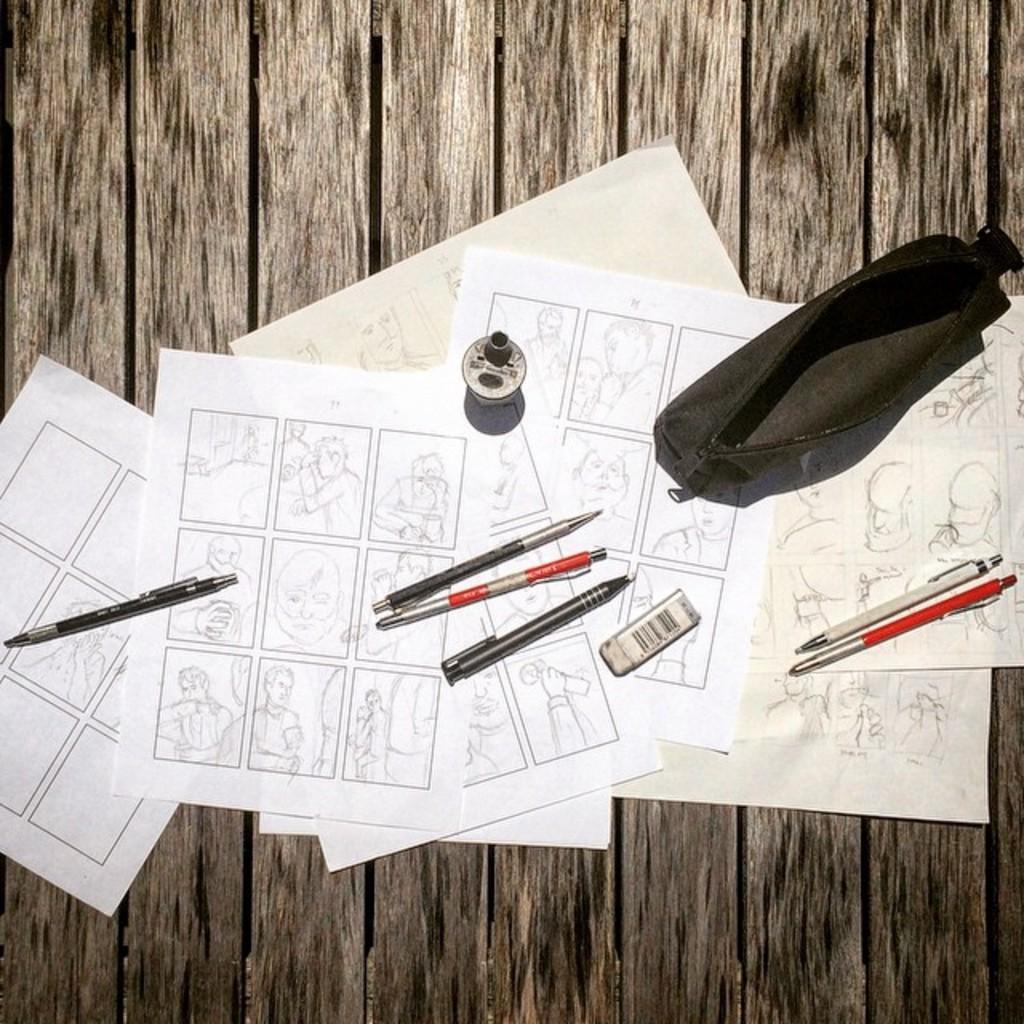pen: (370, 509, 611, 624), (786, 547, 1003, 653), (789, 570, 1019, 670), (432, 573, 637, 685), (371, 546, 618, 627), (3, 576, 240, 648)
